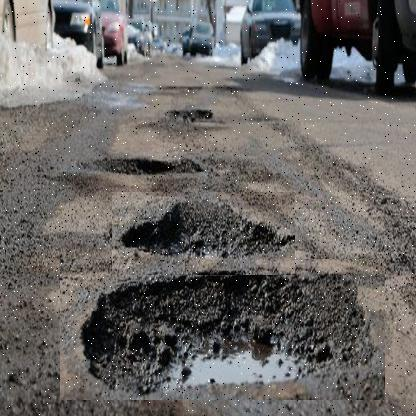pothole: (61, 259, 387, 401), (112, 192, 296, 276), (85, 146, 209, 188)
